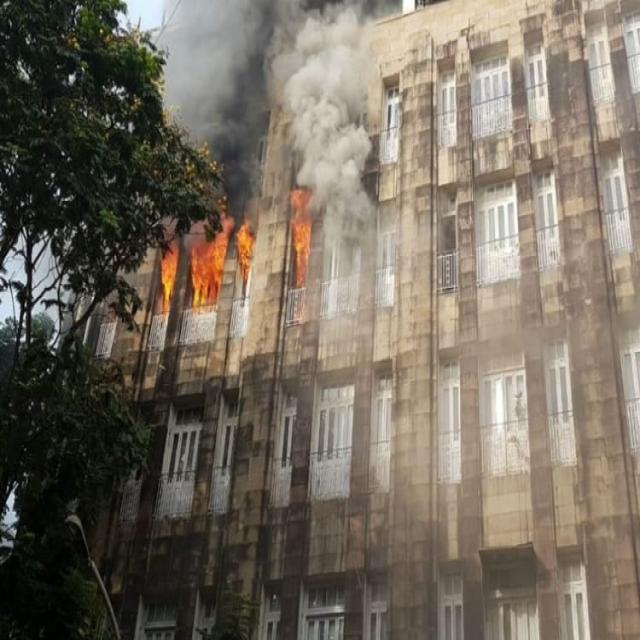Fire: (165, 187, 338, 329)
